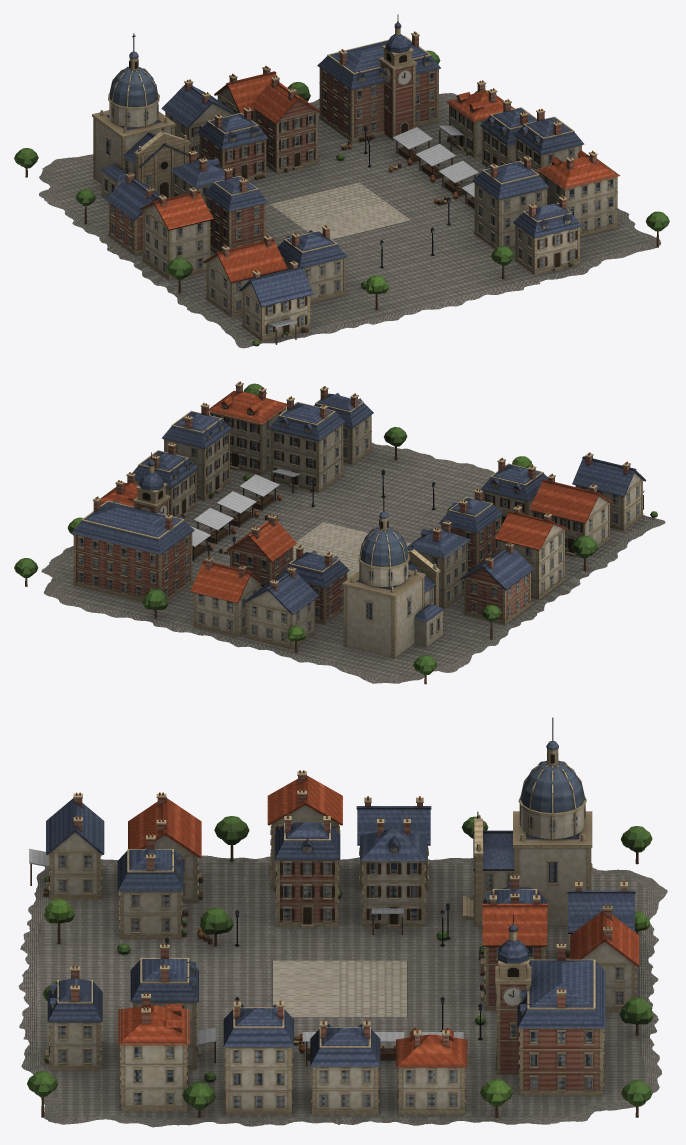
File: gunpowder-town-medium-a-74e1c738.glb
3 views of the same model, one above another, from view 1: azimuth 30°, elevation 25°; view 2: azimuth 150°, elevation 25°; view 3: azimuth 270°, elevation 25° (orthographic). The views are drawn at different scales.
Visible parts, largest first — view 1: LOD0; view 2: LOD0; view 3: LOD0.
Boxes of the visible parts, <box> form: LOD0: <box>14,14,669,348</box>; LOD0: <box>14,381,665,684</box>; LOD0: <box>18,717,667,1127</box>.
Size of what is drawn, in the model's own units: 6.03 by 2 by 6.09.
Materials: 3 (3 with a texture image).
